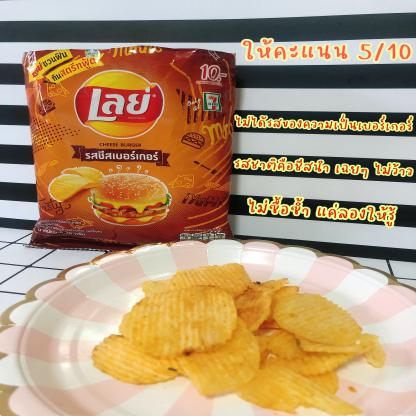potatochip: (20, 46, 233, 254)
